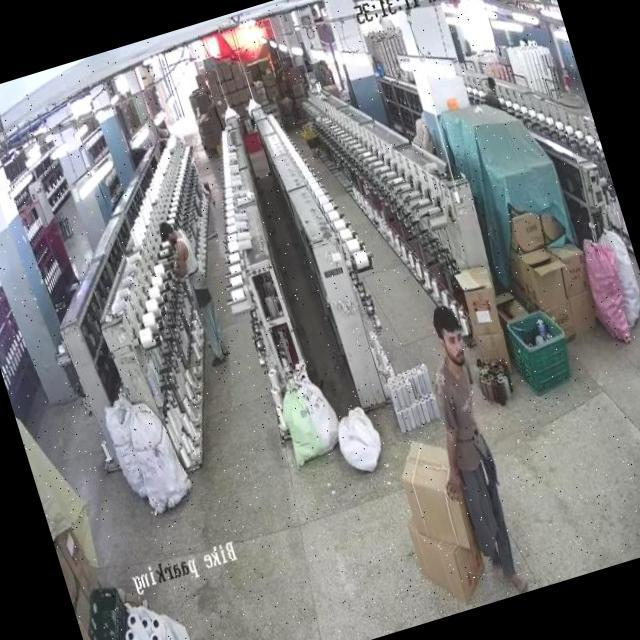person: (404, 306, 532, 569), (156, 209, 239, 377)
